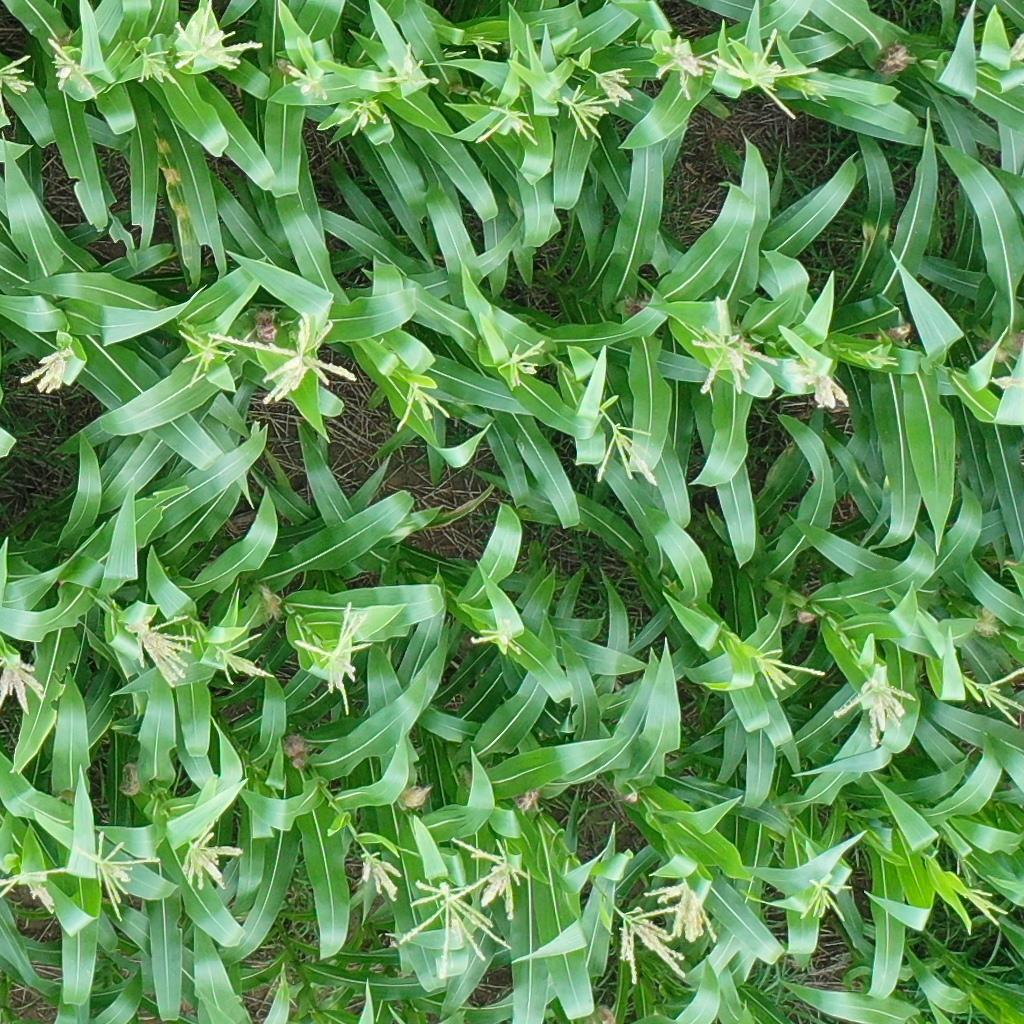Tassel: (208, 308, 356, 402), (387, 874, 515, 976), (686, 291, 779, 397), (714, 27, 814, 124), (74, 820, 163, 923), (299, 600, 374, 718), (451, 831, 531, 921), (174, 1, 265, 74), (611, 905, 691, 987), (836, 672, 918, 745), (124, 613, 199, 687), (175, 826, 247, 893), (643, 878, 717, 943), (592, 418, 658, 488), (788, 349, 851, 415), (1, 861, 71, 919), (966, 659, 1024, 725), (753, 647, 828, 697), (651, 33, 705, 102), (215, 629, 276, 690), (366, 41, 439, 89), (474, 97, 541, 149), (793, 868, 852, 927), (392, 377, 455, 432), (954, 874, 1009, 936), (19, 343, 79, 399), (179, 330, 238, 384), (558, 84, 615, 139), (1, 654, 48, 715), (354, 852, 407, 902), (503, 336, 551, 389), (471, 617, 525, 662), (43, 36, 86, 92), (280, 46, 321, 97), (341, 98, 392, 138), (594, 62, 634, 110), (1, 48, 34, 100), (129, 44, 170, 84), (791, 71, 836, 106), (859, 344, 902, 370), (465, 33, 504, 61), (988, 372, 1024, 392), (1010, 33, 1024, 67)
